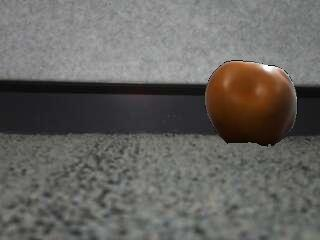Potato: (202, 61, 300, 147)
